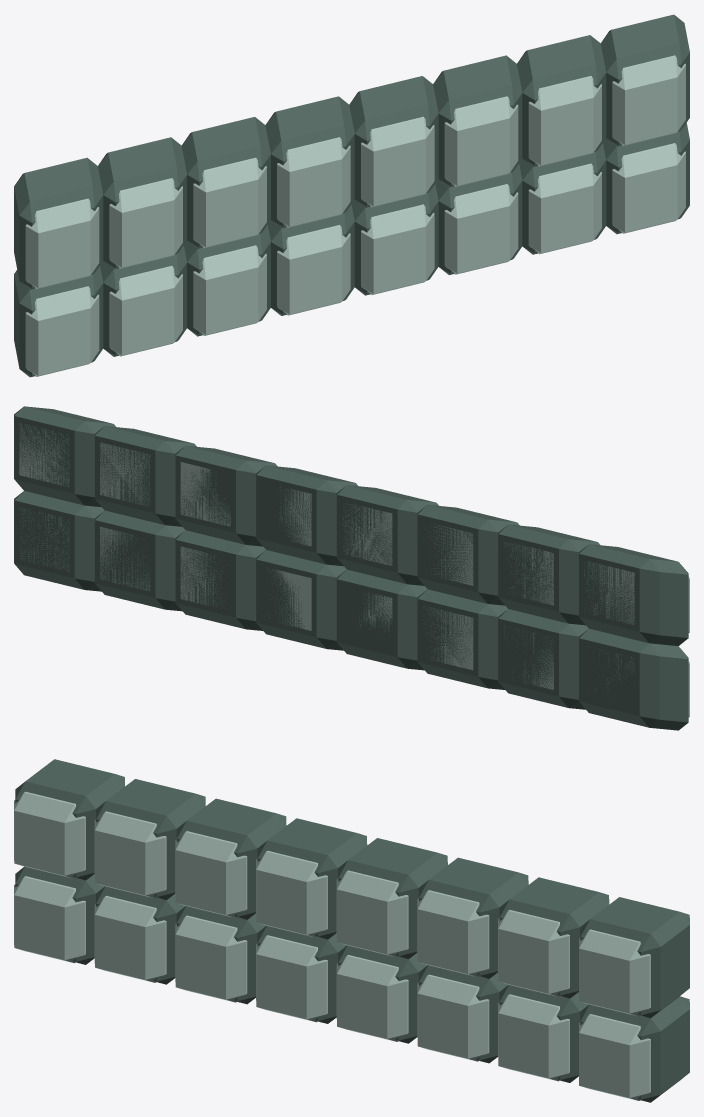
File: Terrain_Block8x2.gltf
The picture shows the model from 3 angles, top to bottom: view 1: azimuth 30°, elevation 25°; view 2: azimuth 150°, elevation 25°; view 3: azimuth 330°, elevation 25°; orthographic projection. The views are drawn at different scales.
Parts seen in each view (by area): view 1: Terrain_Block8x2_baked; view 2: Terrain_Block8x2_baked; view 3: Terrain_Block8x2_baked.
Boxes of the visible parts, x1,y1,x2,y2 form: Terrain_Block8x2_baked: (14, 14, 689, 377); Terrain_Block8x2_baked: (14, 406, 689, 730); Terrain_Block8x2_baked: (14, 759, 689, 1102).
Size of the model in its own units: 8.15 by 2.15 by 0.7.
